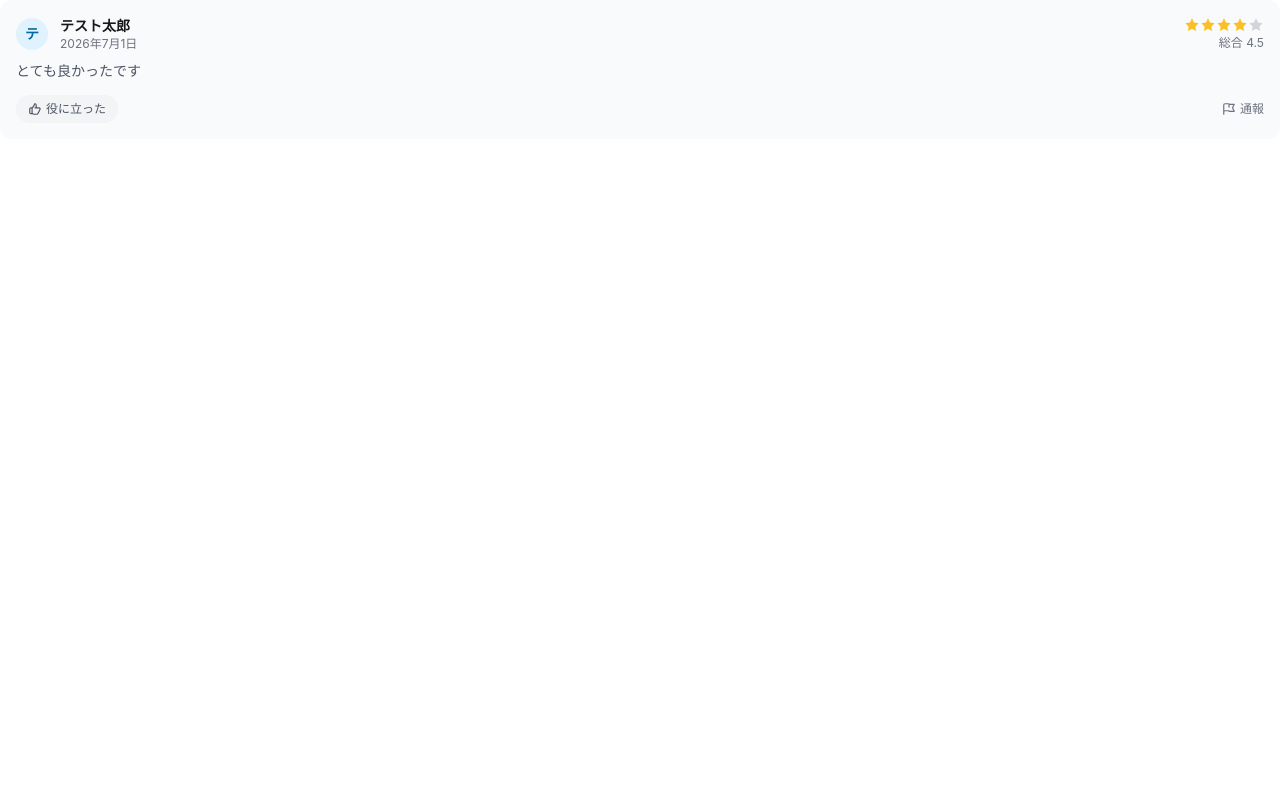
Test: 未ログイン時、ダイアログを「キャンセル」で閉じられる
The width and height of the screenshot is (1280, 800).
Click the button with aria-label "この口コミを通報する": {"x": 1243, "y": 109} [1222,101,1264,117]
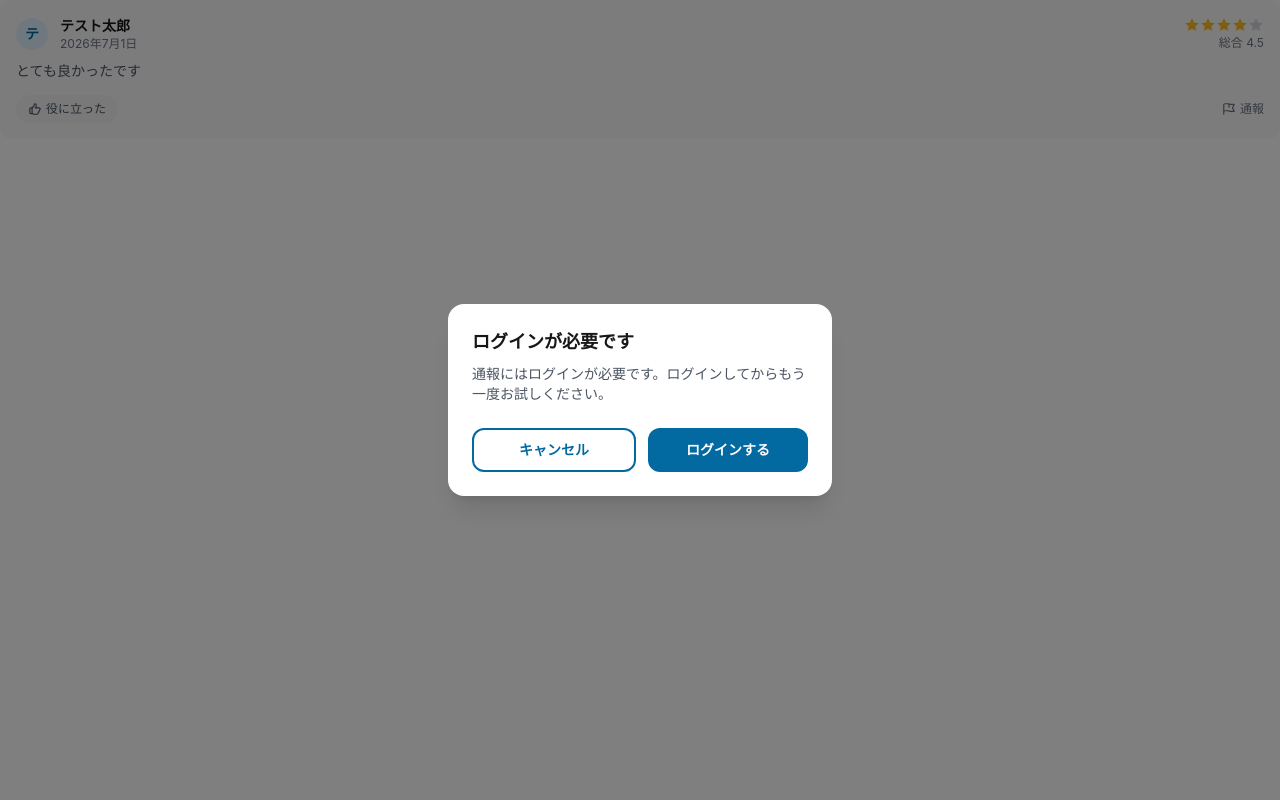
expect the heading "ログインが必要です" is shown: met, box [472,331,634,352]
Click the button "キャンセル": {"x": 554, "y": 450} [472,428,636,472]
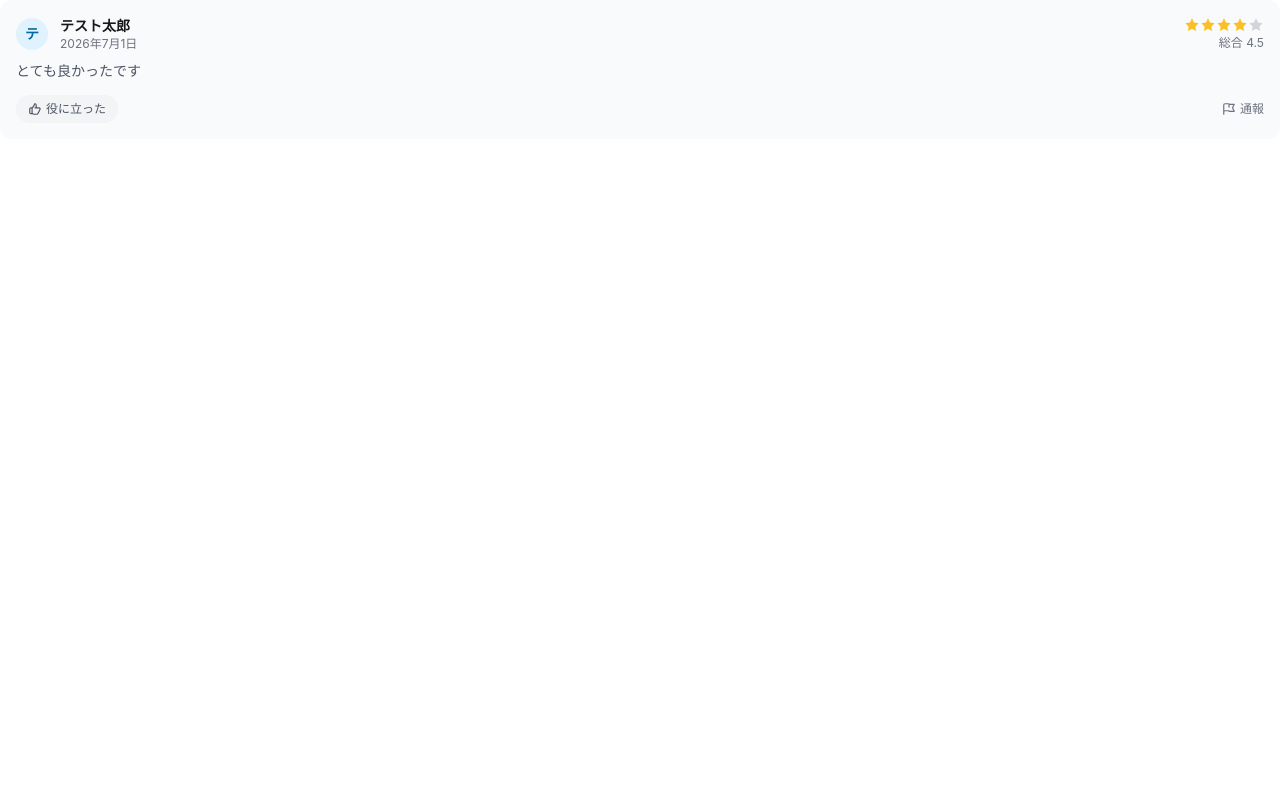
expect the heading "ログインが必要です" is gone: met
